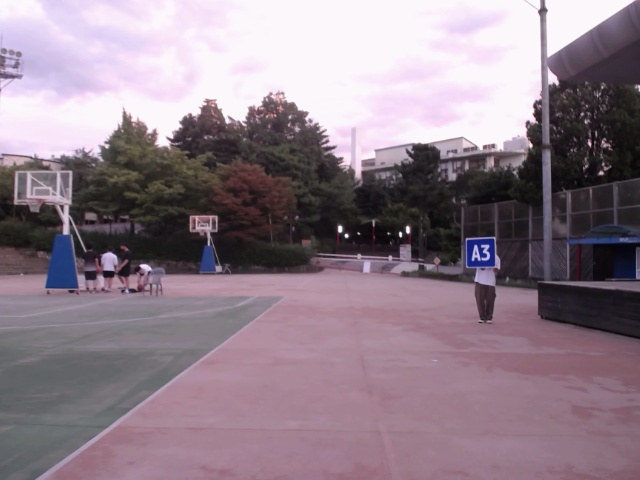delivery_a3: (464, 238, 496, 268)
